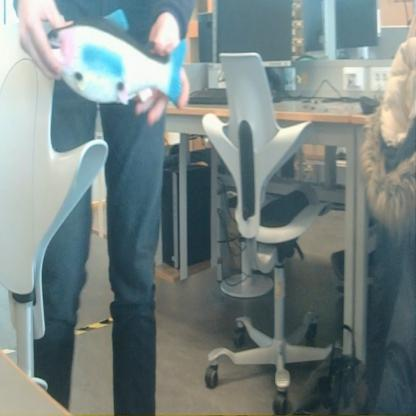rubberfish: (38, 17, 187, 110)
